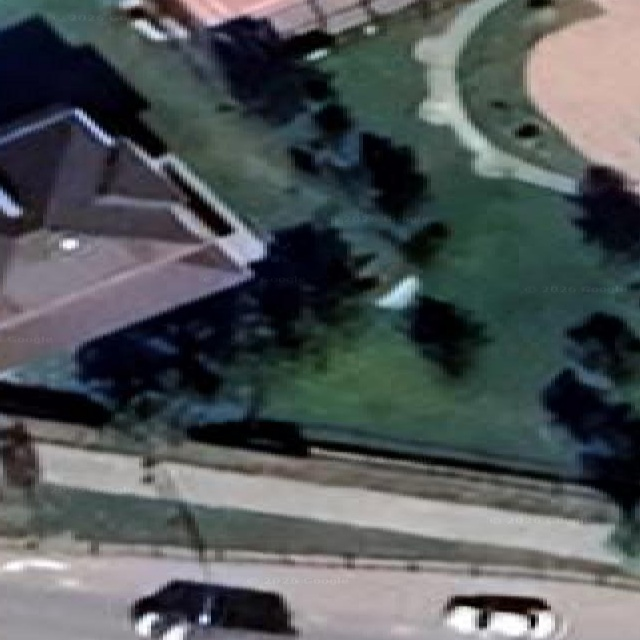car: (130, 580, 296, 639), (443, 594, 563, 639)
